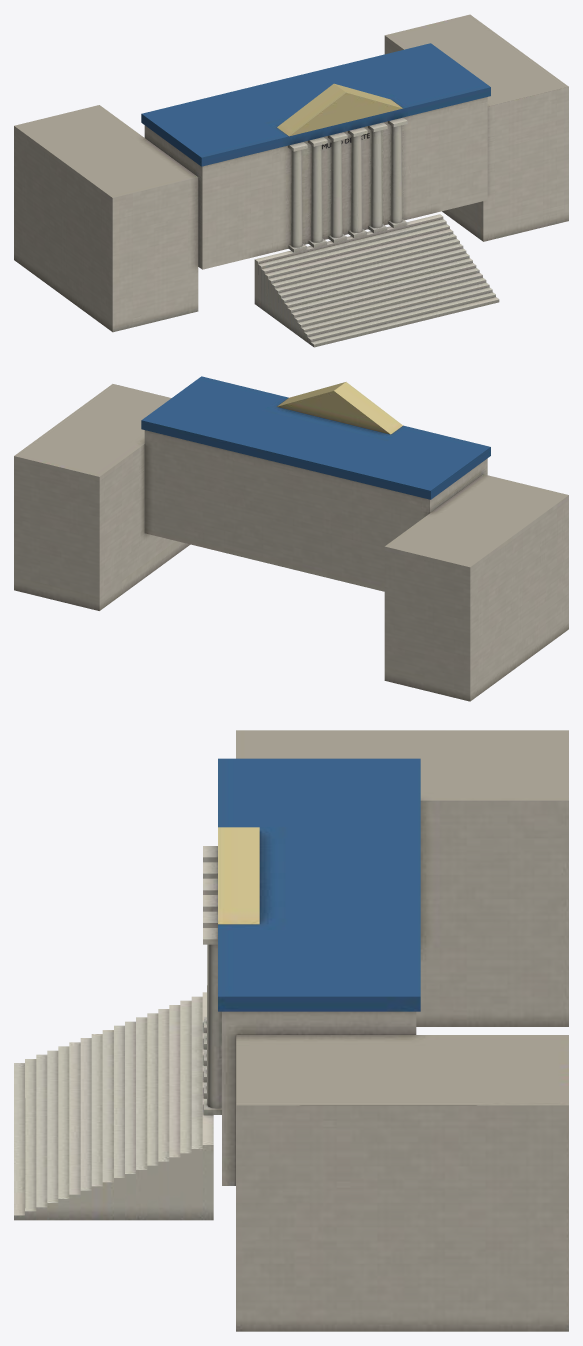
Rendered from museo_arte.glb.
The picture shows the model from 3 angles, top to bottom: view 1: azimuth 30°, elevation 25°; view 2: azimuth 150°, elevation 25°; view 3: azimuth 270°, elevation 25°; orthographic projection. The views are drawn at different scales.
Visible parts, largest first — view 1: museo_arte; view 2: museo_arte; view 3: museo_arte.
Part boxes in pixels (<box>): museo_arte: <box>14,14,568,347</box>; museo_arte: <box>14,376,568,701</box>; museo_arte: <box>14,730,568,1331</box>.
Bounding box in the file's own units: 64 × 25.2 × 40.
1 material, 1 textured.
